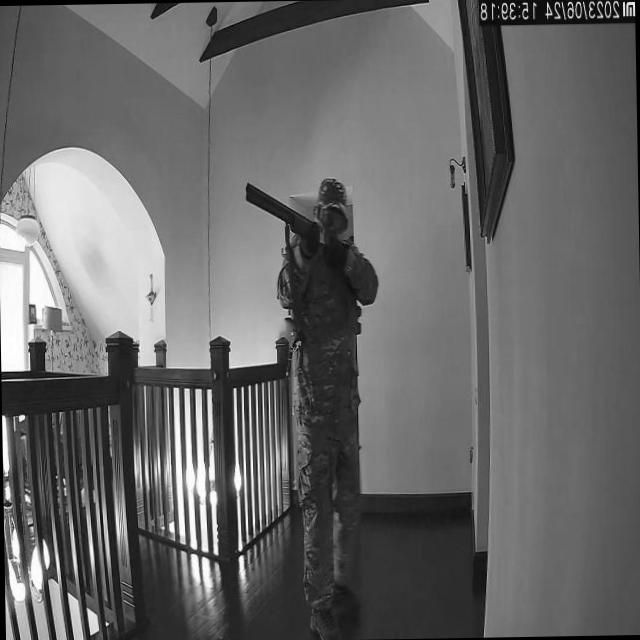gun: (239, 187, 350, 240)
person with a gun: (240, 177, 386, 638)
